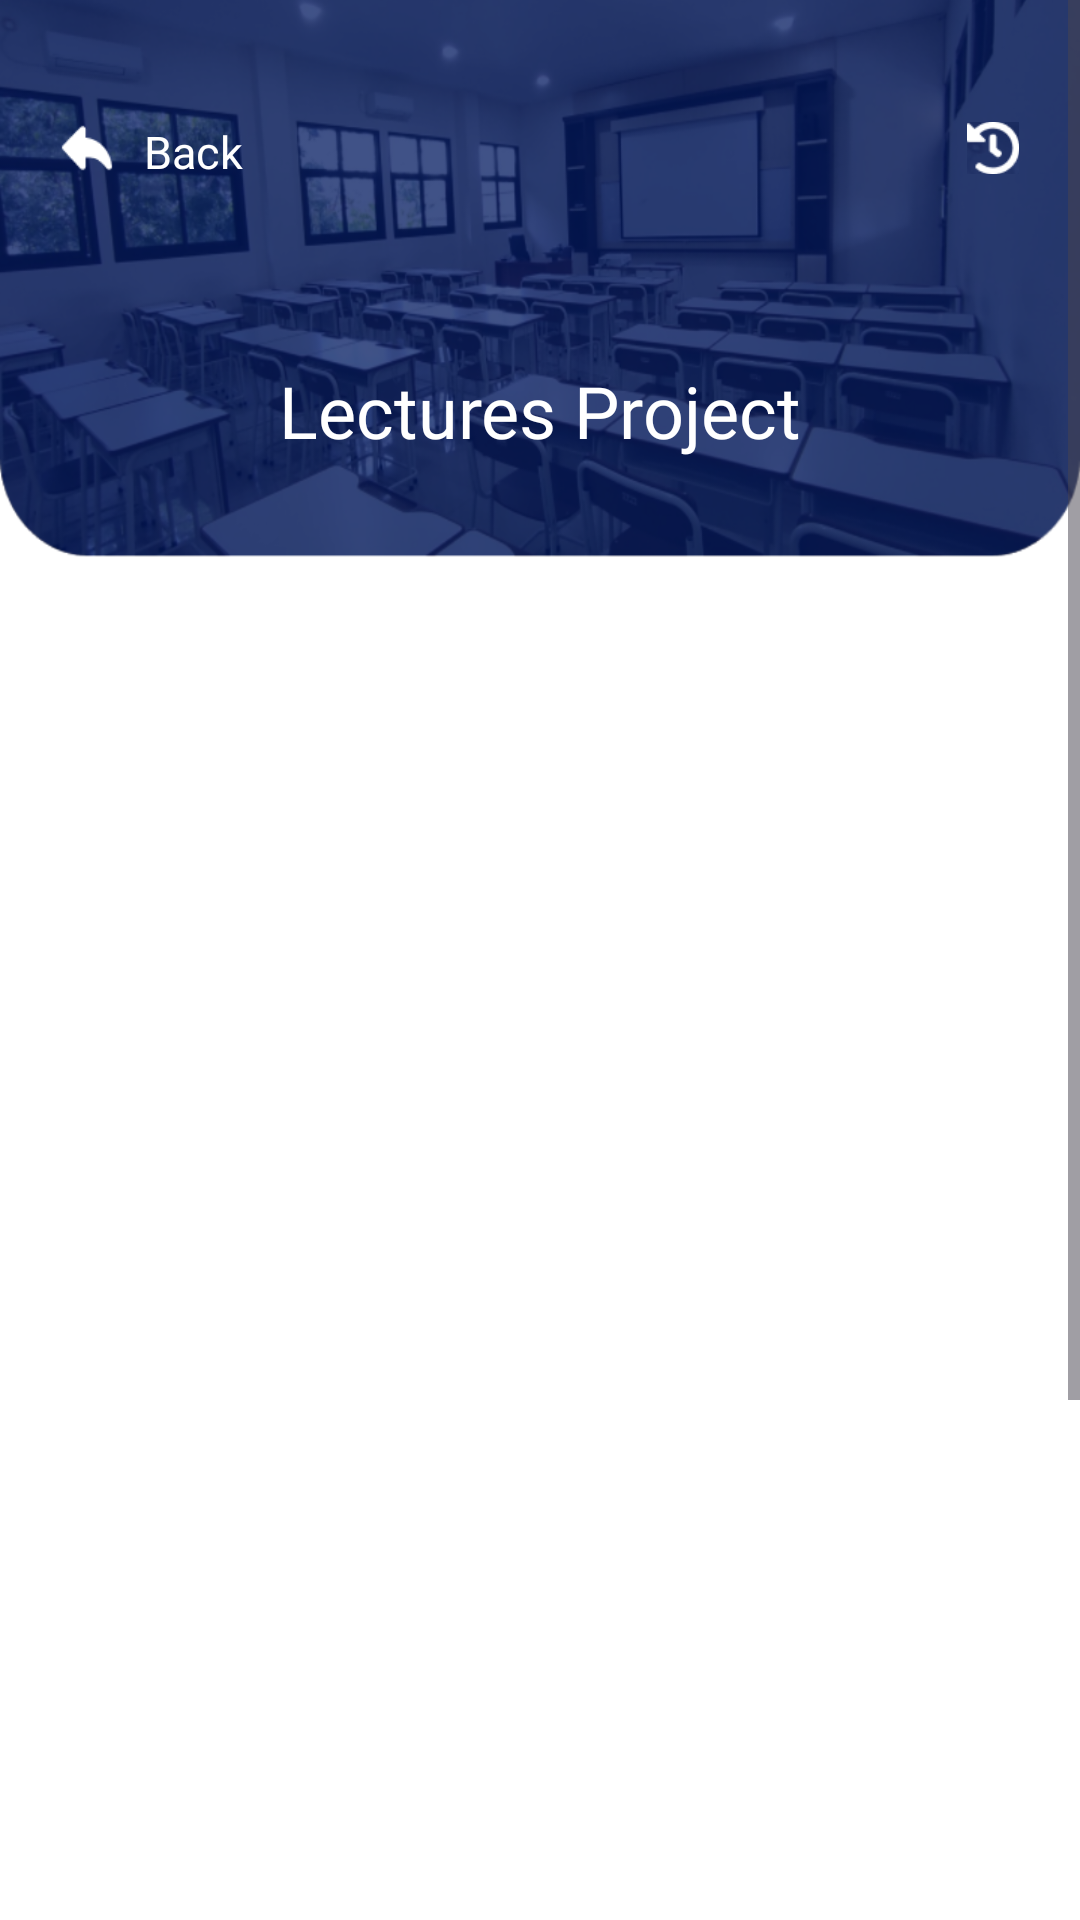

Screen size 1080w x 1920h. Icon name, then its center in pixels as (x=x, y=y):
kembali: (x=87, y=148)
time: (x=993, y=148)
